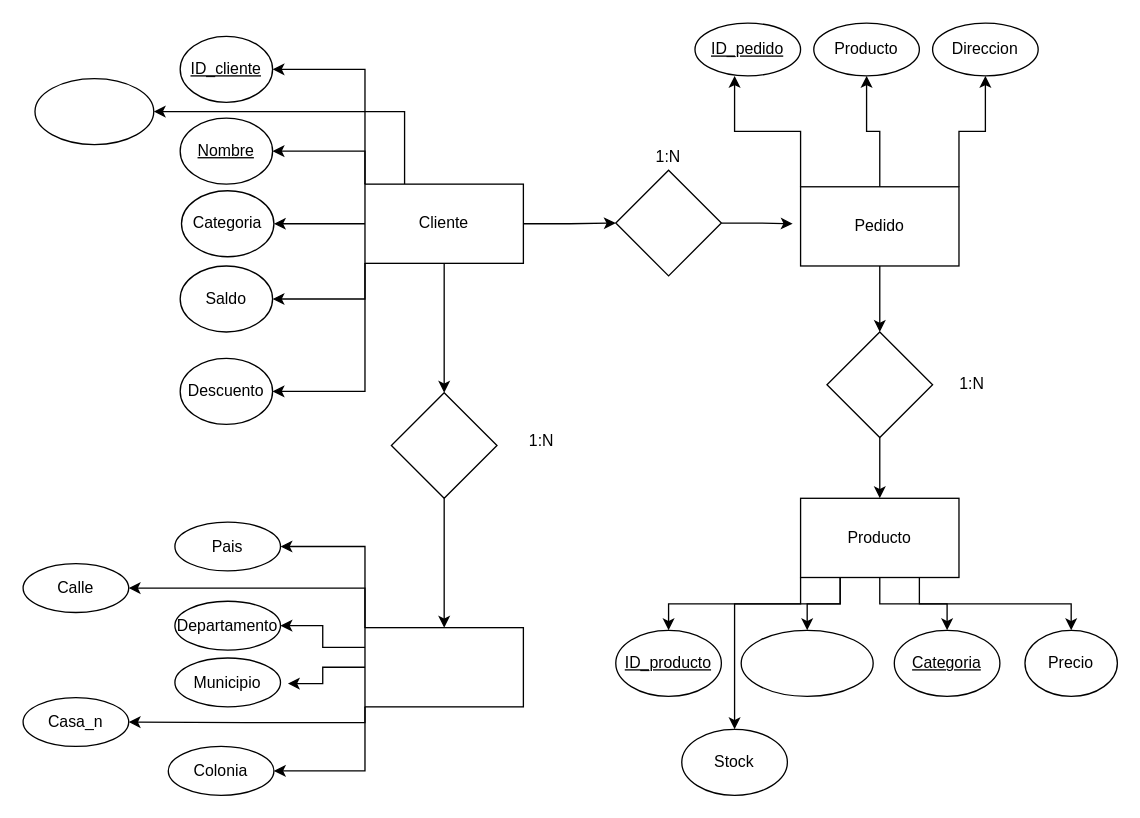
Image size: 1140x818. Some labels were removed from this diagram. The centre of each missing label's shape, as x and y in pixels:
Contiene: point 879,384
Direcion: point 443,666
Limite_credito: point 94,111
Nombre_producto: point 806,662
Puede Tener: point 443,444
Realiza: point 667,222
